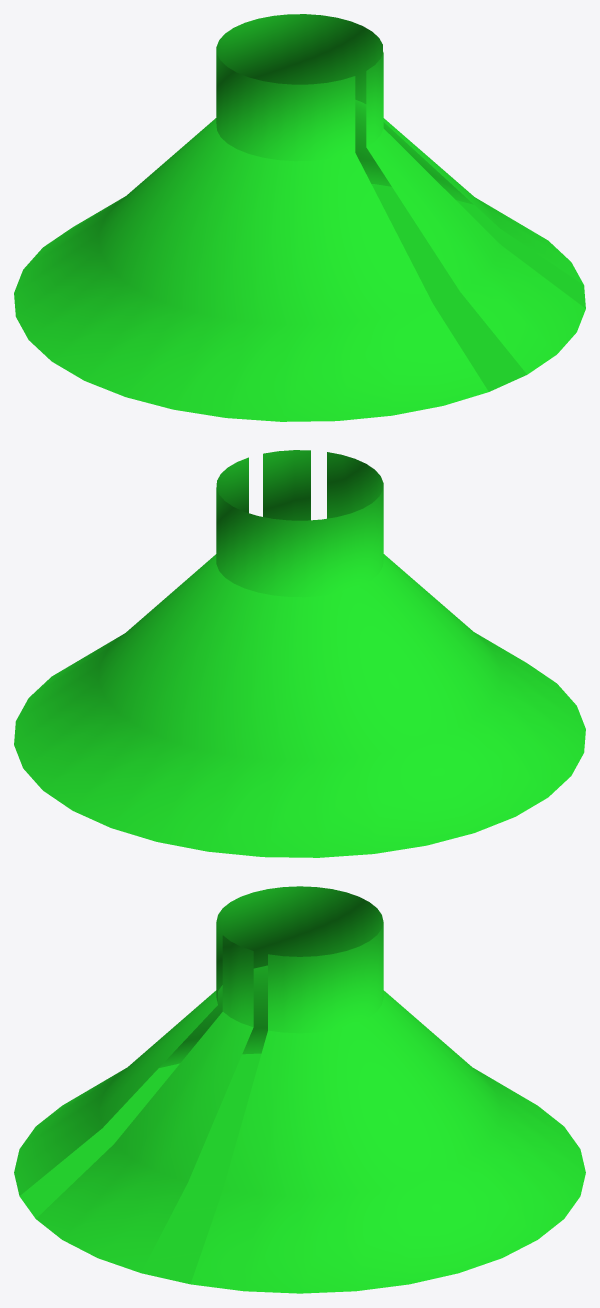
The model's file is ColonyHouse5.fbx.
3 renders of one model, top to bottom at view 1: azimuth 30°, elevation 25°; view 2: azimuth 150°, elevation 25°; view 3: azimuth 270°, elevation 25°, orthographic.
Visible parts, largest first — view 1: Cone.004; view 2: Cone.004; view 3: Cone.004.
Boxes of the visible parts, x1,y1,x2,y2 form: Cone.004: (14,14,585,421); Cone.004: (14,450,585,857); Cone.004: (14,886,585,1293).
Bounding box in the file's own units: 200 × 96.88 × 200.
